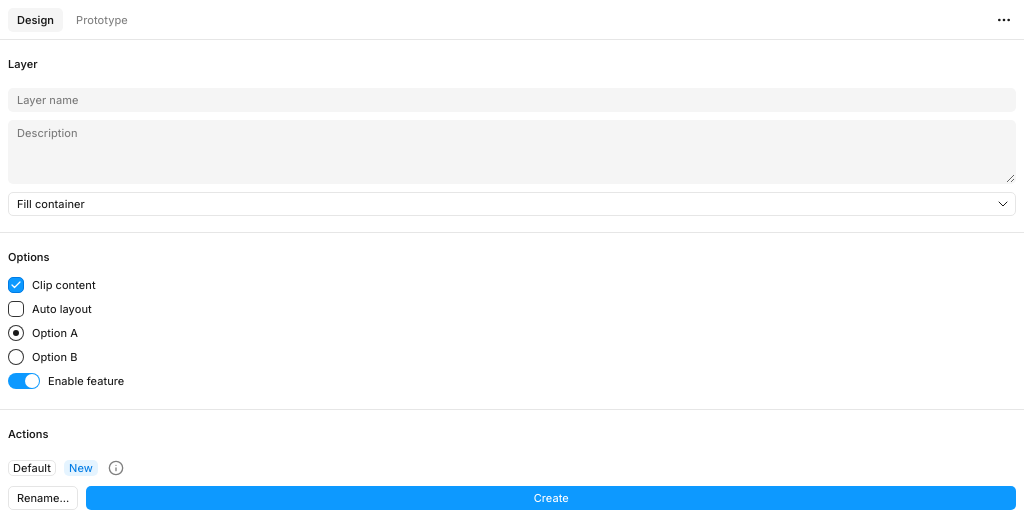
it: App (component sampler) › opens the info tooltip on hover
This screenshot has width=1024, height=527.
Hover over the button named "More info".
mouse_move(116, 468)  # box [106,458,126,478]
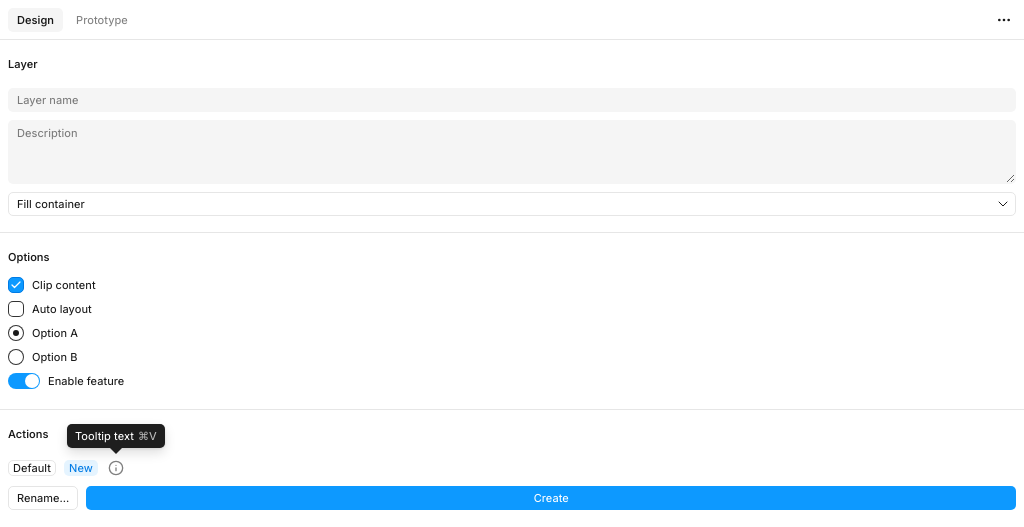
Result: the tooltip "Tooltip text ⌘V" is shown at [67,424,165,448]
